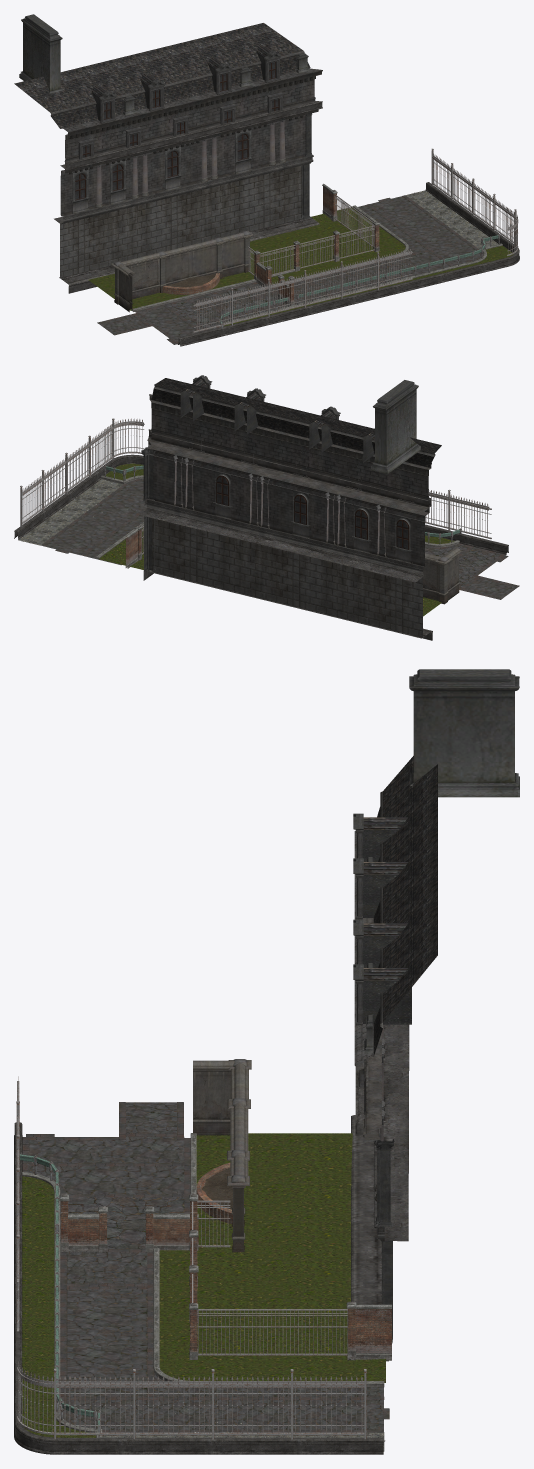
The model's file is st4_301_0_terrain_00ms.fbx.
3 renders of one model, top to bottom at view 1: azimuth 30°, elevation 25°; view 2: azimuth 150°, elevation 25°; view 3: azimuth 270°, elevation 25°, orthographic. The views are drawn at different scales.
Visible parts, largest first — view 1: LOD_1_Group_0_Sub_1__st1_townPolice00_Mat, LOD_1_Group_0_Sub_2__st1_townPolice01_Mat, LOD_1_Group_0_Sub_15__st1_townPoliceRoof_Mat, LOD_1_Group_0_Sub_5__st1_townGround02_Mat, LOD_1_Group_0_Sub_9__st1_townPoliceFence01_Mat, LOD_1_Group_0_Sub_12__st1_townPoliceparts00_Mat, LOD_1_Group_0_Sub_4__st1_GroundWild01_Mat, LOD_1_Group_0_Sub_11__st1_townPoliceFence00_Mat, LOD_1_Group_0_Sub_3__st1_townBuild04_Mat, LOD_1_Group_0_Sub_14__st1_townPoliceparts01_Mat, LOD_1_Group_0_Sub_13__st1_PoliceWinEmissive_Mat, LOD_1_Group_0_Sub_6__st2_police1fRightFloor05 (+1 smaller); view 2: LOD_1_Group_0_Sub_2__st1_townPolice01_Mat, LOD_1_Group_0_Sub_1__st1_townPolice00_Mat, LOD_1_Group_0_Sub_12__st1_townPoliceparts00_Mat, LOD_1_Group_0_Sub_5__st1_townGround02_Mat, LOD_1_Group_0_Sub_9__st1_townPoliceFence01_Mat, LOD_1_Group_0_Sub_15__st1_townPoliceRoof_Mat, LOD_1_Group_0_Sub_6__st2_police1fRightFloor05, LOD_1_Group_0_Sub_11__st1_townPoliceFence00_Mat, LOD_1_Group_0_Sub_14__st1_townPoliceparts01_Mat, LOD_1_Group_0_Sub_4__st1_GroundWild01_Mat, LOD_1_Group_0_Sub_3__st1_townBuild04_Mat, LOD_1_Group_0_Sub_13__st1_PoliceWinEmissive_Mat (+1 smaller); view 3: LOD_1_Group_0_Sub_4__st1_GroundWild01_Mat, LOD_1_Group_0_Sub_5__st1_townGround02_Mat, LOD_1_Group_0_Sub_12__st1_townPoliceparts00_Mat, LOD_1_Group_0_Sub_1__st1_townPolice00_Mat, LOD_1_Group_0_Sub_9__st1_townPoliceFence01_Mat, LOD_1_Group_0_Sub_15__st1_townPoliceRoof_Mat, LOD_1_Group_0_Sub_3__st1_townBuild04_Mat, LOD_1_Group_0_Sub_11__st1_townPoliceFence00_Mat, LOD_1_Group_0_Sub_2__st1_townPolice01_Mat, LOD_1_Group_0_Sub_10__st1_townPoliceFence02_Mat, LOD_1_Group_0_Sub_6__st2_police1fRightFloor05.
Part boxes in pixels (box(x1,y1,x2,y2)): LOD_1_Group_0_Sub_1__st1_townPolice00_Mat: box(50, 51, 519, 346); LOD_1_Group_0_Sub_2__st1_townPolice01_Mat: box(60, 68, 322, 216); LOD_1_Group_0_Sub_15__st1_townPoliceRoof_Mat: box(14, 23, 310, 128); LOD_1_Group_0_Sub_5__st1_townGround02_Mat: box(97, 195, 483, 344); LOD_1_Group_0_Sub_9__st1_townPoliceFence01_Mat: box(193, 148, 518, 332); LOD_1_Group_0_Sub_12__st1_townPoliceparts00_Mat: box(19, 14, 312, 219); LOD_1_Group_0_Sub_4__st1_GroundWild01_Mat: box(88, 207, 513, 326); LOD_1_Group_0_Sub_11__st1_townPoliceFence00_Mat: box(111, 230, 253, 312); LOD_1_Group_0_Sub_3__st1_townBuild04_Mat: box(131, 183, 502, 327); LOD_1_Group_0_Sub_14__st1_townPoliceparts01_Mat: box(95, 120, 286, 207); LOD_1_Group_0_Sub_13__st1_PoliceWinEmissive_Mat: box(75, 62, 278, 199); LOD_1_Group_0_Sub_6__st2_police1fRightFloor05: box(405, 190, 497, 249); LOD_1_Group_0_Sub_2__st1_townPolice01_Mat: box(148, 394, 431, 566); LOD_1_Group_0_Sub_1__st1_townPolice00_Mat: box(14, 385, 508, 640); LOD_1_Group_0_Sub_12__st1_townPoliceparts00_Mat: box(141, 375, 420, 571); LOD_1_Group_0_Sub_5__st1_townGround02_Mat: box(41, 479, 519, 599); LOD_1_Group_0_Sub_9__st1_townPoliceFence01_Mat: box(20, 418, 491, 554); LOD_1_Group_0_Sub_15__st1_townPoliceRoof_Mat: box(151, 378, 441, 467); LOD_1_Group_0_Sub_6__st2_police1fRightFloor05: box(18, 479, 136, 545); LOD_1_Group_0_Sub_11__st1_townPoliceFence00_Mat: box(423, 548, 461, 604); LOD_1_Group_0_Sub_14__st1_townPoliceparts01_Mat: box(173, 455, 386, 557); LOD_1_Group_0_Sub_4__st1_GroundWild01_Mat: box(98, 463, 454, 616); LOD_1_Group_0_Sub_3__st1_townBuild04_Mat: box(95, 475, 459, 568); LOD_1_Group_0_Sub_13__st1_PoliceWinEmissive_Mat: box(217, 477, 407, 549); LOD_1_Group_0_Sub_4__st1_GroundWild01_Mat: box(22, 1133, 385, 1437); LOD_1_Group_0_Sub_5__st1_townGround02_Mat: box(22, 1102, 389, 1432); LOD_1_Group_0_Sub_12__st1_townPoliceparts00_Mat: box(353, 669, 519, 1343); LOD_1_Group_0_Sub_1__st1_townPolice00_Mat: box(14, 791, 409, 1454); LOD_1_Group_0_Sub_9__st1_townPoliceFence01_Mat: box(16, 1076, 366, 1439); LOD_1_Group_0_Sub_15__st1_townPoliceRoof_Mat: box(363, 756, 437, 1056); LOD_1_Group_0_Sub_3__st1_townBuild04_Mat: box(22, 1133, 391, 1437); LOD_1_Group_0_Sub_11__st1_townPoliceFence00_Mat: box(193, 1059, 251, 1252); LOD_1_Group_0_Sub_2__st1_townPolice01_Mat: box(354, 831, 381, 1142); LOD_1_Group_0_Sub_10__st1_townPoliceFence02_Mat: box(16, 1154, 100, 1437); LOD_1_Group_0_Sub_6__st2_police1fRightFloor05: box(102, 1402, 385, 1451).
Size of what is drawn, in the model's own units: 33.99 by 20.01 by 19.84.
